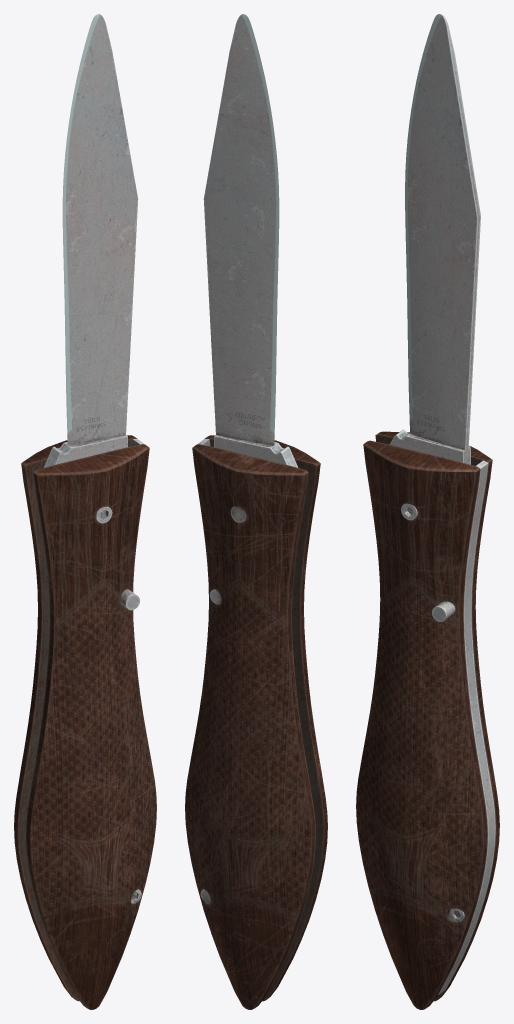
Rendered from fish_knife.gltf.
3 views of the same model, side by side, from view 1: azimuth 30°, elevation 25°; view 2: azimuth 150°, elevation 25°; view 3: azimuth 330°, elevation 25° (orthographic).
Parts seen in each view (by area): view 1: fish_knife_handle, fish_knife_blade; view 2: fish_knife_handle, fish_knife_blade; view 3: fish_knife_handle, fish_knife_blade.
Part boxes in pixels (x1,y1,x2,y2): fish_knife_handle: (14,435,156,1009); fish_knife_blade: (43,14,138,467); fish_knife_handle: (185,435,327,1009); fish_knife_blade: (203,14,298,467); fish_knife_handle: (356,431,499,1009); fish_knife_blade: (390,14,480,464).
Bounding box in the file's own units: 0.029 × 0.2157 × 0.0162.
Materials: 1 (1 with a texture image).
